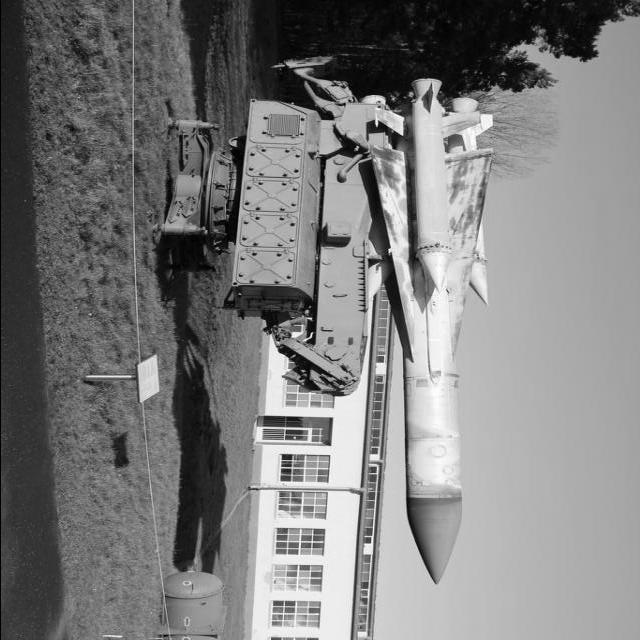missile: (385, 48, 469, 580), (409, 76, 462, 290)
